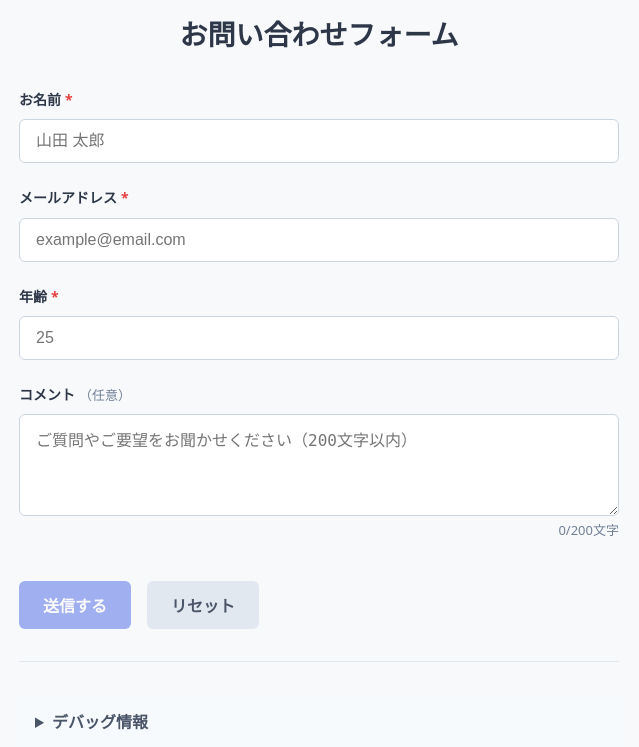
it: ContactForm › 文字数カウンター › コメント欄の文字数が正しく表示される
Expected: the text "0/200文字" is shown, [558,520,619,541]
Type "テスト" into the text box labelled "コメント （任意）" at (319, 465), box [19,414,619,516]
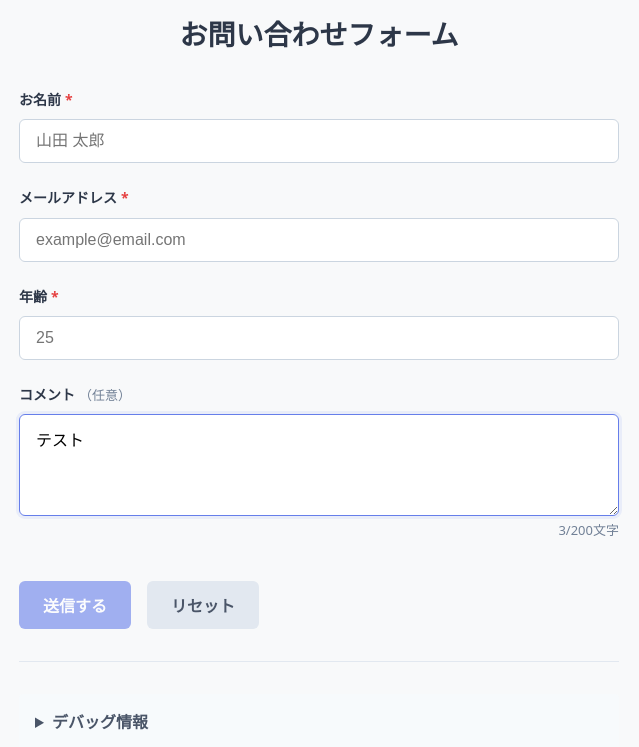
Now the text "3/200文字" is shown, box [558,520,619,541]
